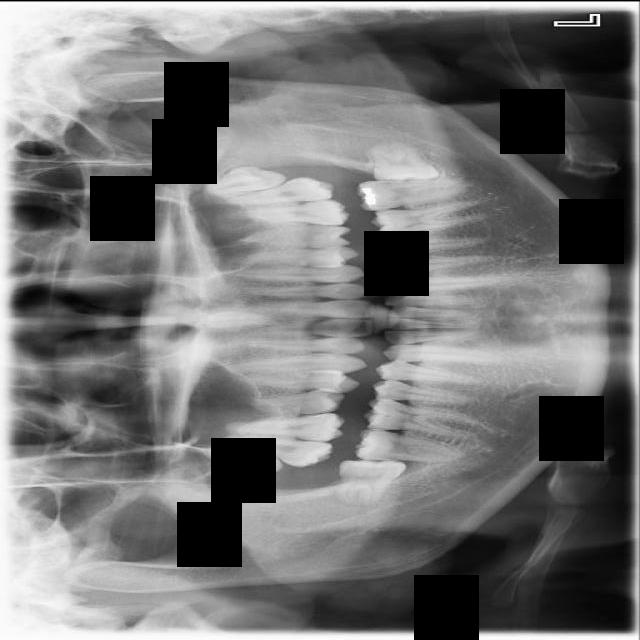3M ESPE Implant: (195, 437, 285, 486)
52: (362, 184, 379, 206)
73: (578, 36, 586, 40)
BioHorizons Implant: (230, 175, 336, 204)
BioLife Implant: (204, 160, 286, 197)
Biomet 3i Implant: (368, 138, 438, 184)
Blue Sky Bio Implant: (356, 176, 466, 211)
Caries: (225, 432, 334, 470)
Implant: (355, 427, 459, 462)
Keystone Dental Implant: (333, 456, 407, 510)
